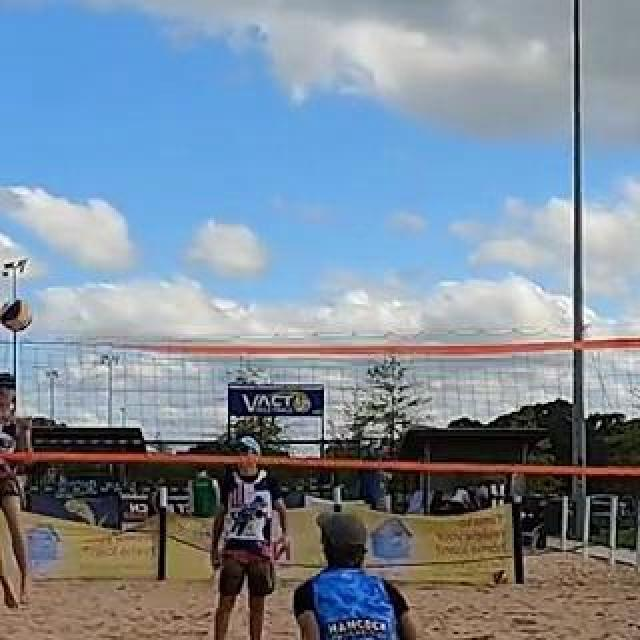volleyball: (2, 300, 32, 330), (491, 569, 509, 585)
